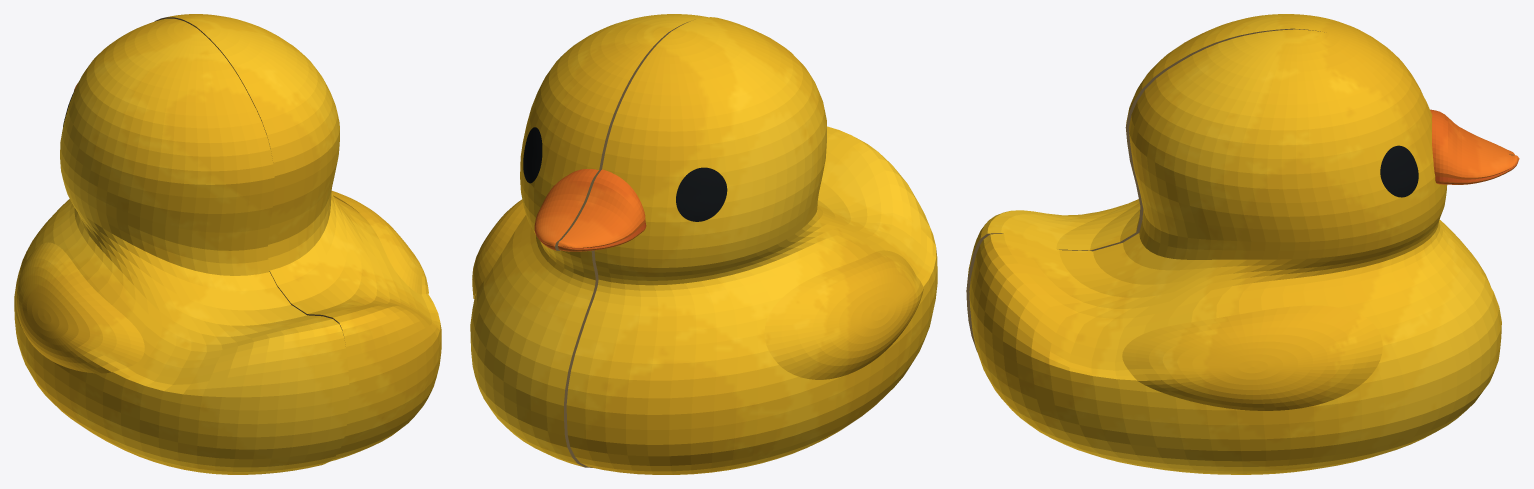
Rendered from Cut_duck_TwoFragments_M410.fbx.
The picture shows the model from 3 angles, left to right: view 1: azimuth 30°, elevation 25°; view 2: azimuth 150°, elevation 25°; view 3: azimuth 270°, elevation 25°; orthographic projection. The views are drawn at different scales.
Visible parts, largest first — view 1: Cut_duck_Fragment0, Cut_duck_Fragment1; view 2: Cut_duck_Fragment0, Cut_duck_Fragment1; view 3: Cut_duck_Fragment1, Cut_duck_Fragment0.
Boxes of the visible parts, left/top/right/bottom form: Cut_duck_Fragment0: left=14, top=18, right=349, bottom=474; Cut_duck_Fragment1: left=154, top=14, right=441, bottom=461; Cut_duck_Fragment0: left=558, top=17, right=937, bottom=474; Cut_duck_Fragment1: left=470, top=14, right=707, bottom=467; Cut_duck_Fragment1: left=969, top=29, right=1519, bottom=474; Cut_duck_Fragment0: left=966, top=14, right=1514, bottom=351.
Size of the model in its own units: 105 by 103 by 132.
Materials: 5 (4 with a texture image).
